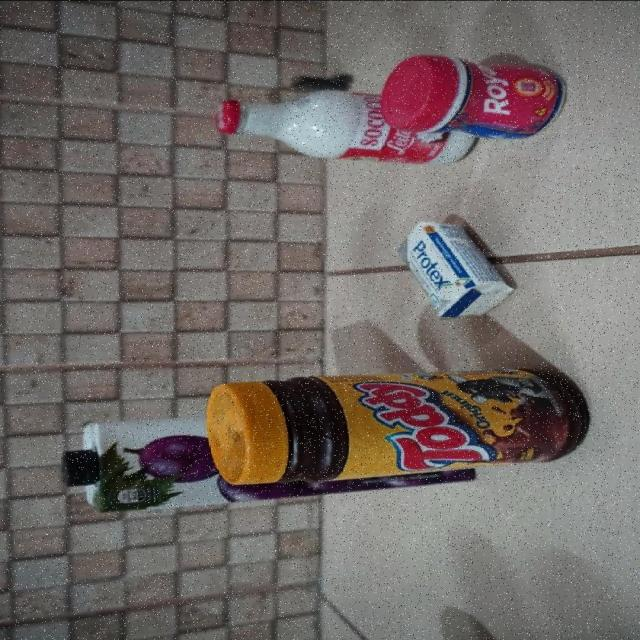ChocolatePowder: (207, 368, 584, 484)
CoconutMilk: (213, 88, 481, 164)
Soap: (394, 222, 514, 320)
Yeast: (378, 54, 570, 139)
